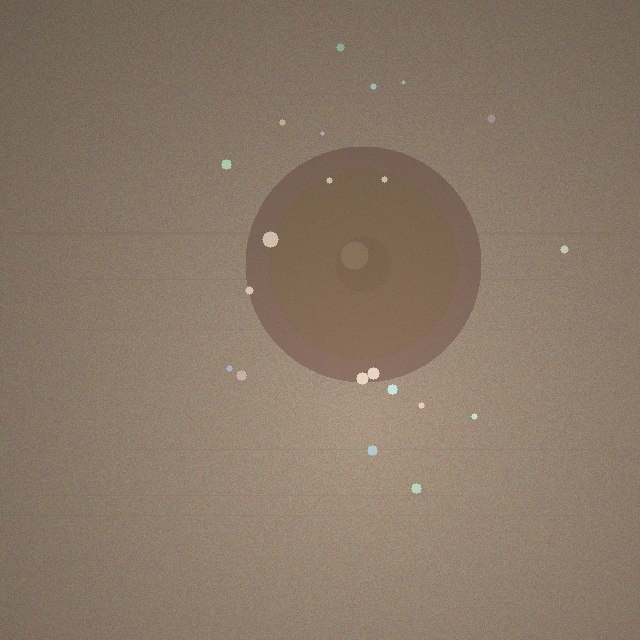overburn: (245, 146, 481, 382)
